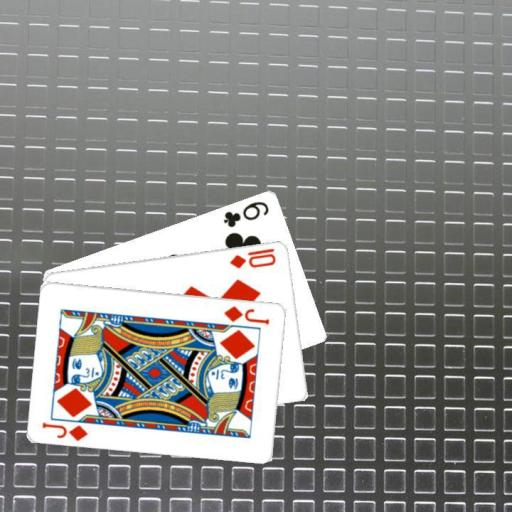10D: (227, 245, 278, 270)
6C: (220, 198, 271, 229)
JD: (221, 303, 271, 327), (39, 419, 90, 442)
